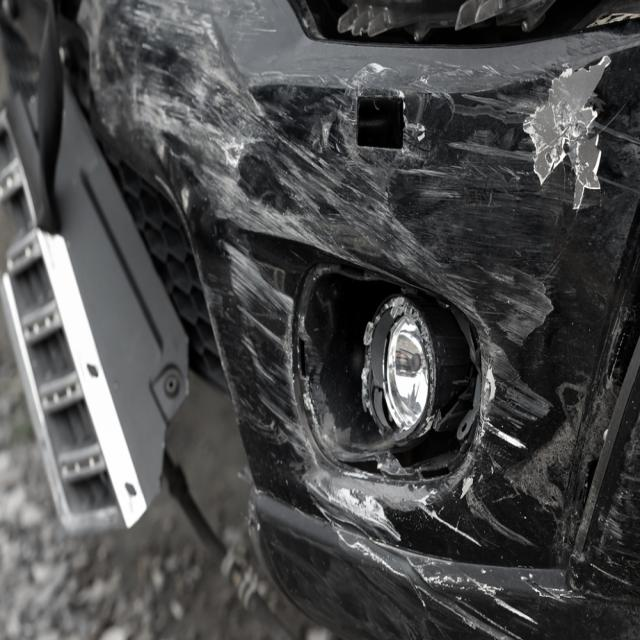scratch: (79, 0, 610, 554), (310, 531, 584, 640), (594, 407, 640, 597)
